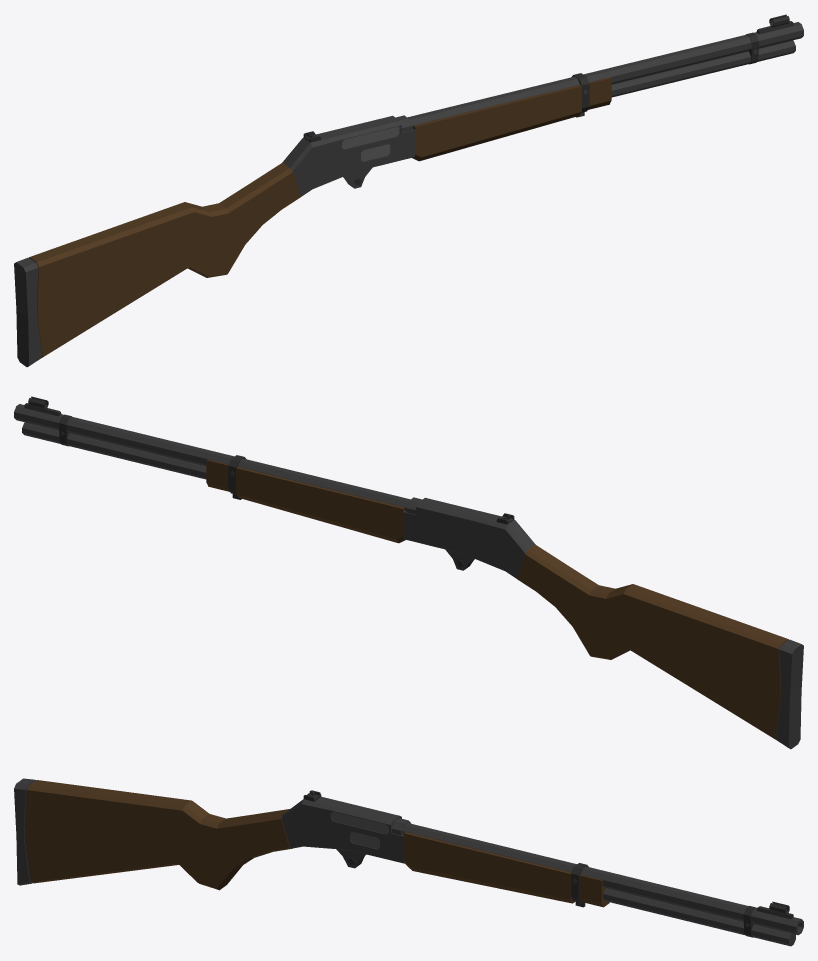
The model's file is SM_SniperRifle5_01.glb.
The picture shows the model from 3 angles, top to bottom: view 1: azimuth 30°, elevation 25°; view 2: azimuth 150°, elevation 25°; view 3: azimuth 330°, elevation 25°; orthographic projection.
Visible parts, largest first — view 1: SM_SniperRifle5_01; view 2: SM_SniperRifle5_01; view 3: SM_SniperRifle5_01.
Part boxes in pixels (x1,y1,x2,y2): SM_SniperRifle5_01: (14, 14, 803, 367); SM_SniperRifle5_01: (14, 396, 803, 749); SM_SniperRifle5_01: (14, 778, 803, 946).
Bounding box in the file's own units: 1.15 × 0.2304 × 0.03.
Materials: 1 (1 with a texture image).
